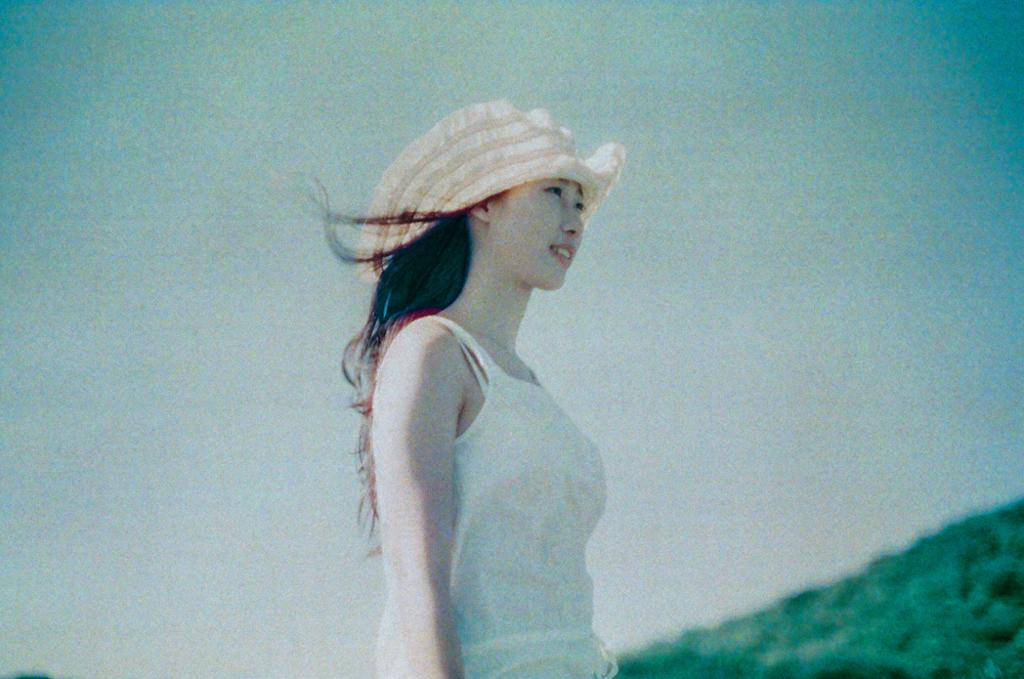Hat: (356, 94, 626, 286)
